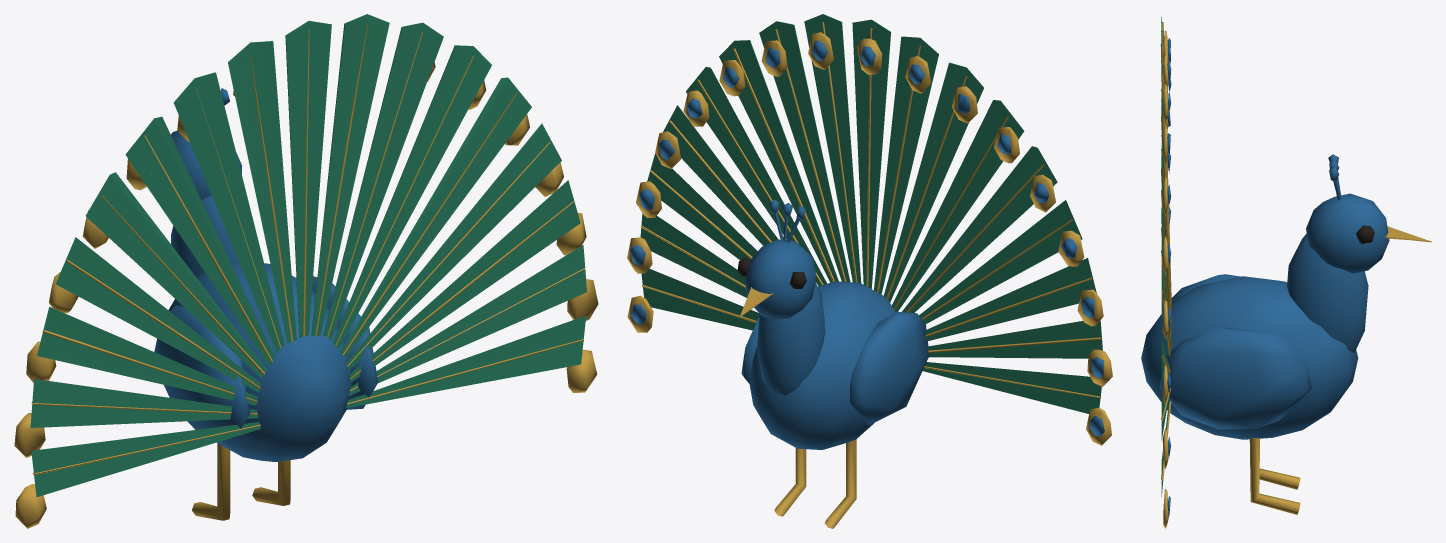
The model's file is peacock.glb.
3 renders of one model, left to right at view 1: azimuth 30°, elevation 25°; view 2: azimuth 150°, elevation 25°; view 3: azimuth 270°, elevation 25°, orthographic. The views are drawn at different scales.
Visible parts, largest first — view 1: fan feather, beak, bird torso, folded wing, folded wing.001, foot, foot.001; view 2: fan feather, bird torso, beak, folded wing, foot, foot.001; view 3: bird torso, folded wing.001, beak, fan feather, foot.001, foot, folded wing.
Part boxes in pixels (<box>): fan feather: <box>30,14,586,496</box>; beak: <box>14,23,598,528</box>; bird torso: <box>168,88,352,461</box>; folded wing: <box>154,305,250,440</box>; folded wing.001: <box>312,276,378,409</box>; foot: <box>192,443,230,520</box>; foot.001: <box>252,460,290,505</box>; fan feather: <box>640,14,1102,413</box>; bird torso: <box>630,40,1104,449</box>; beak: <box>627,22,1112,445</box>; folded wing: <box>849,311,929,424</box>; foot: <box>825,439,856,528</box>; foot.001: <box>774,448,806,516</box>; bird torso: <box>1141,38,1389,517</box>; folded wing.001: <box>1159,327,1311,429</box>; beak: <box>1160,21,1431,528</box>; fan feather: <box>1161,16,1169,496</box>; foot.001: <box>1249,438,1300,514</box>; foot: <box>1259,468,1300,489</box>; folded wing: <box>1171,274,1240,301</box>.
Size of the model in its own units: 1.64 by 1.46 by 0.83.
